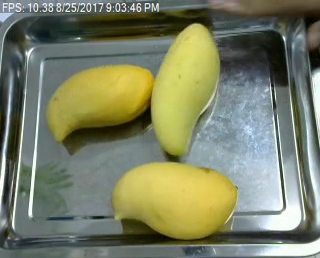Mango: (112, 161, 238, 241), (148, 22, 221, 156), (44, 59, 157, 143)
